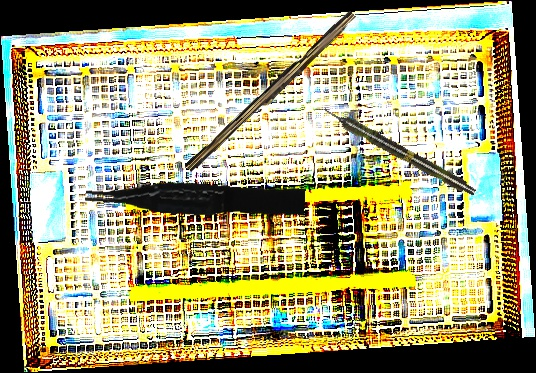Handpiece: (320, 102, 479, 200)
Scalpel Handle: (184, 7, 360, 178)
Tissue Forceps: (84, 170, 306, 225)
